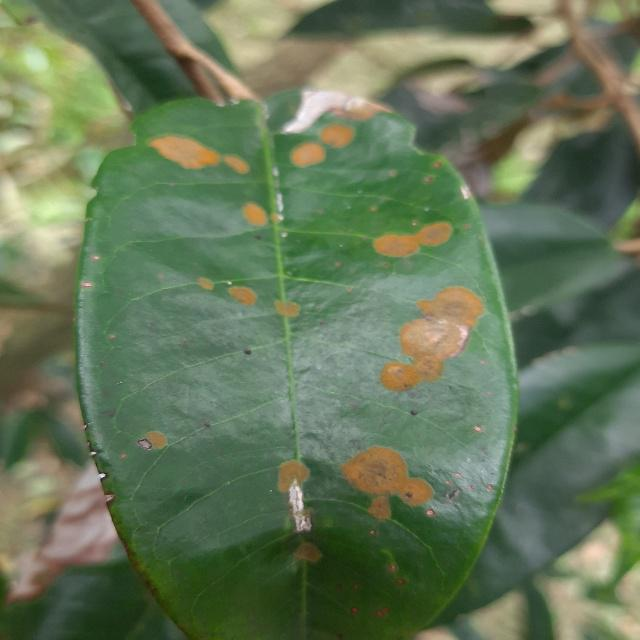Algal Leaf Spot: (71, 85, 527, 639)
